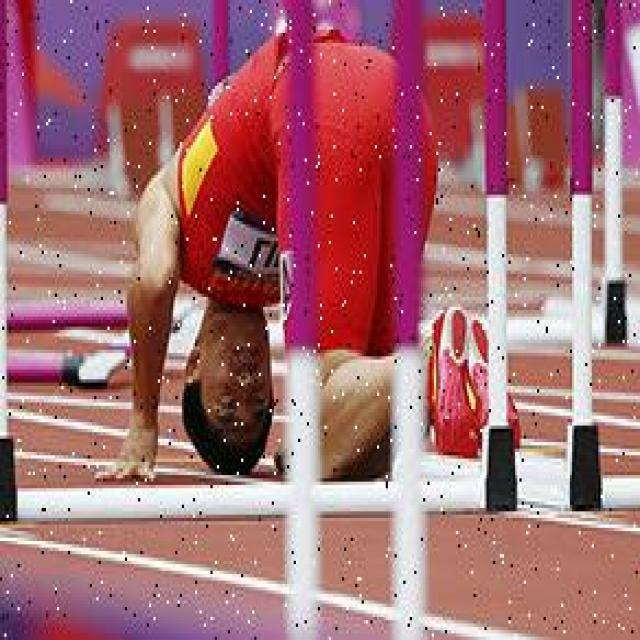fall: (111, 33, 486, 478)
